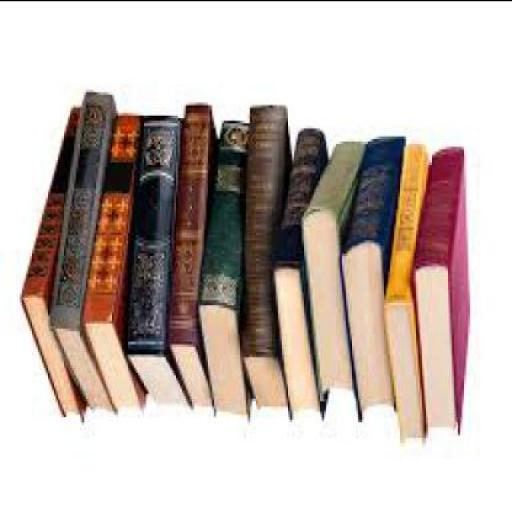paper: (22, 103, 90, 416), (54, 88, 120, 408), (84, 109, 144, 419), (346, 130, 408, 421), (304, 135, 370, 403), (276, 128, 334, 421), (128, 109, 185, 405), (202, 117, 258, 418), (242, 102, 296, 408), (416, 146, 470, 434), (384, 140, 432, 442), (172, 101, 218, 413)
